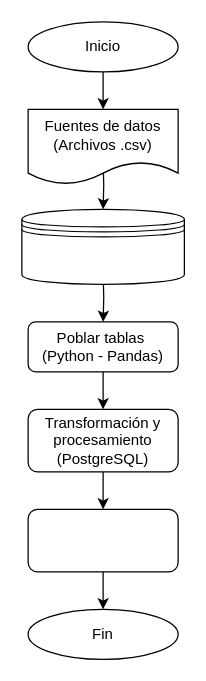
The diagram is 206 pixels wide and 681 high, and some of its shapes have lost their labels. Here are the shapes that lost their labels. From the top down, the box of each, then its label:
(21, 208, 184, 284): Base de datos y tablas (PostgreSQL)
(27, 508, 178, 572): Visualización y análisis (Python - Ploty/Dash)
